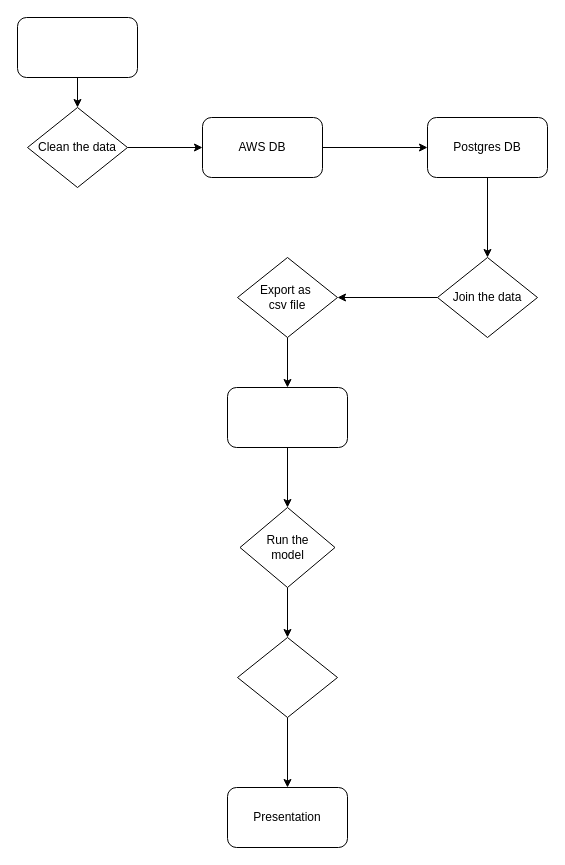
The diagram is 565 pixels wide and 865 high, and some of its shapes have lost their labels. The shapes that lost their labels are listed below. From the top down, each one's box as (x1, y1, x2, y2) in pixels, then its label:
(16, 16, 138, 78): Data collection
(226, 386, 348, 448): Machine Learning
(236, 636, 338, 718): Results to presentation
